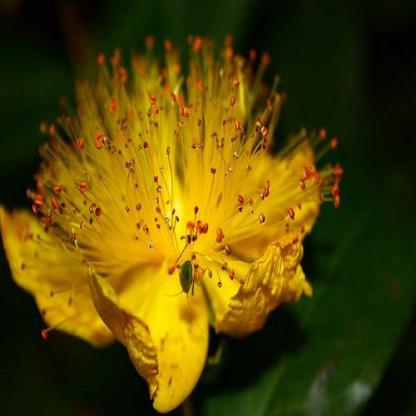aphid: (171, 252, 202, 306)
